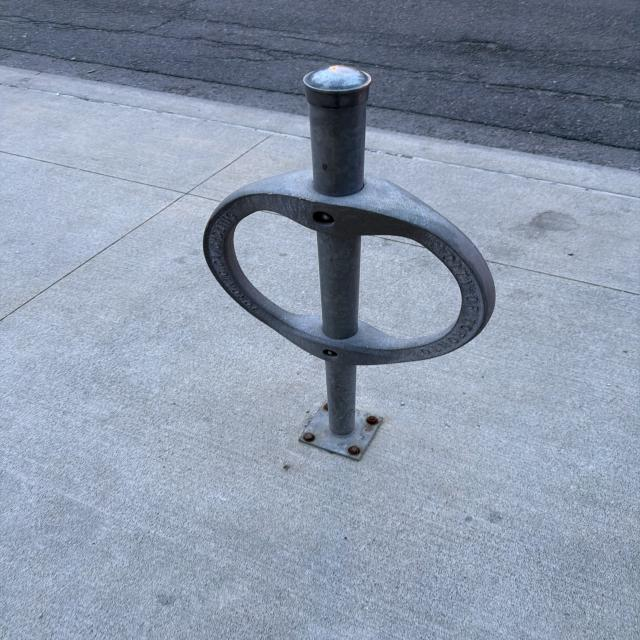Bicycle Rack: (199, 61, 496, 462)
